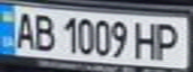0: (93, 16, 112, 57), (75, 16, 93, 56)
1: (57, 14, 78, 54)
9: (109, 18, 133, 58)
A: (9, 8, 39, 51)
B: (30, 11, 57, 52)
H: (130, 18, 163, 61)
P: (151, 19, 187, 62)
